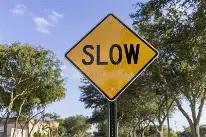Slow: (67, 15, 156, 100)
